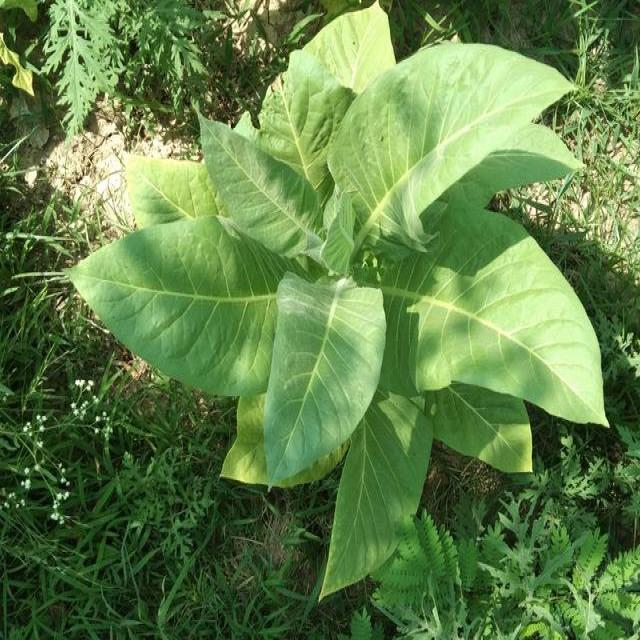crop: (81, 32, 599, 600)
